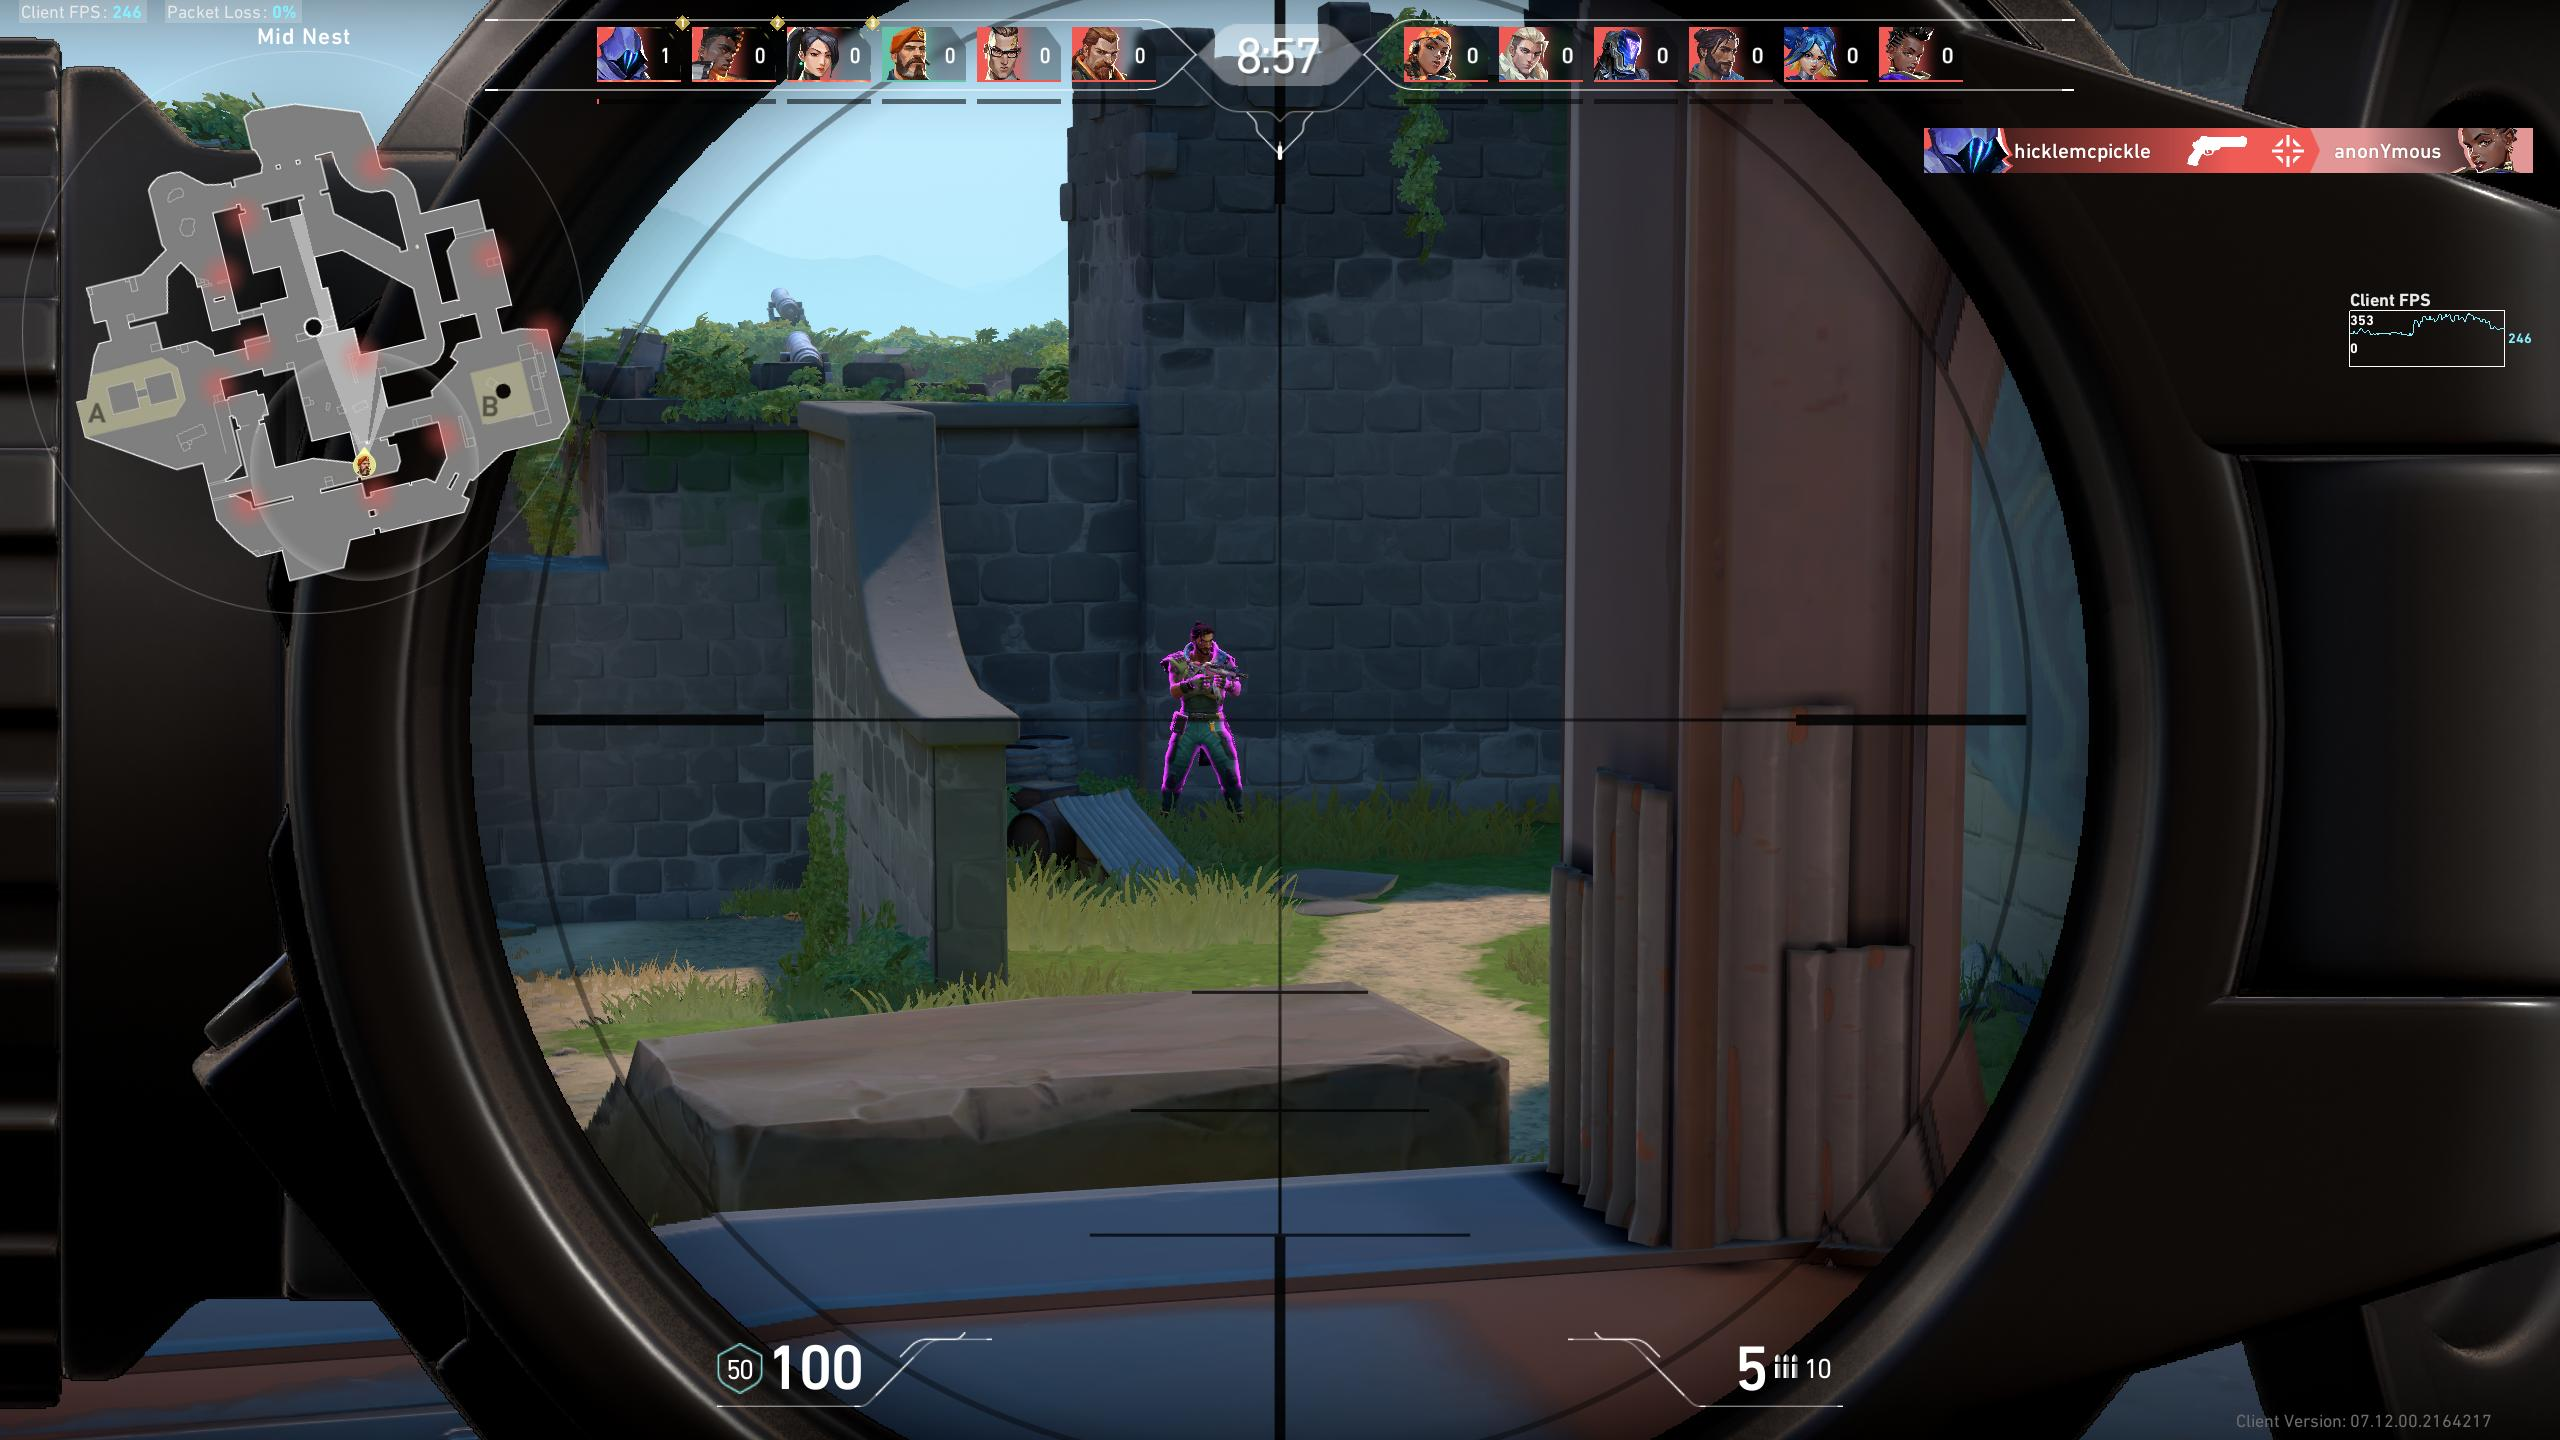enemyHead: (1159, 659, 1259, 754), (1192, 631, 1220, 656)
